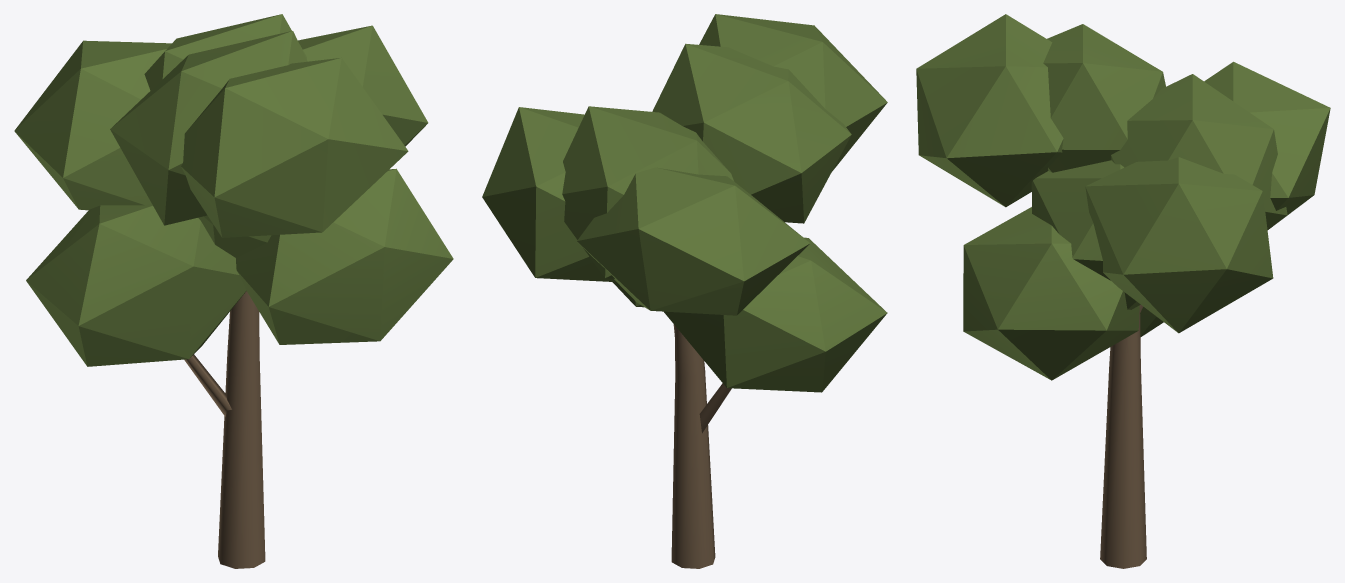
Rendered from oak.glb.
3 views of the same model, side by side, from view 1: azimuth 30°, elevation 25°; view 2: azimuth 150°, elevation 25°; view 3: azimuth 270°, elevation 25° (orthographic). The views are drawn at different scales.
Parts seen in each view (by area): view 1: Дуб; view 2: Дуб; view 3: Дуб.
Boxes of the visible parts, bbox=[...] form: Дуб: bbox=[14, 14, 453, 568]; Дуб: bbox=[482, 14, 887, 568]; Дуб: bbox=[916, 14, 1330, 568].
Size of the model in its own units: 5.96 by 8.19 by 6.02.
